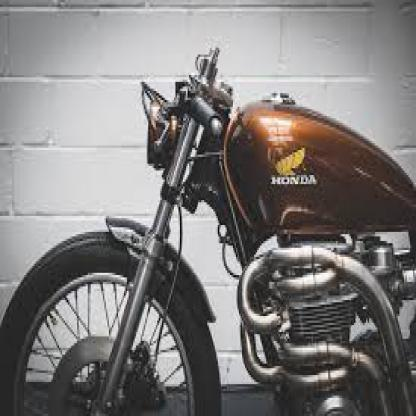Motorcycle: (0, 47, 415, 414)
